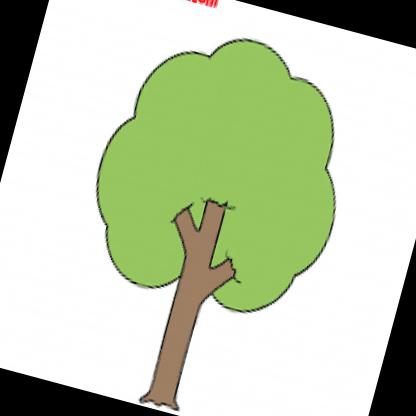branch_cut: (150, 178, 256, 294)
crown_cloud: (69, 8, 375, 332)
trunk_straight: (147, 293, 206, 385)
